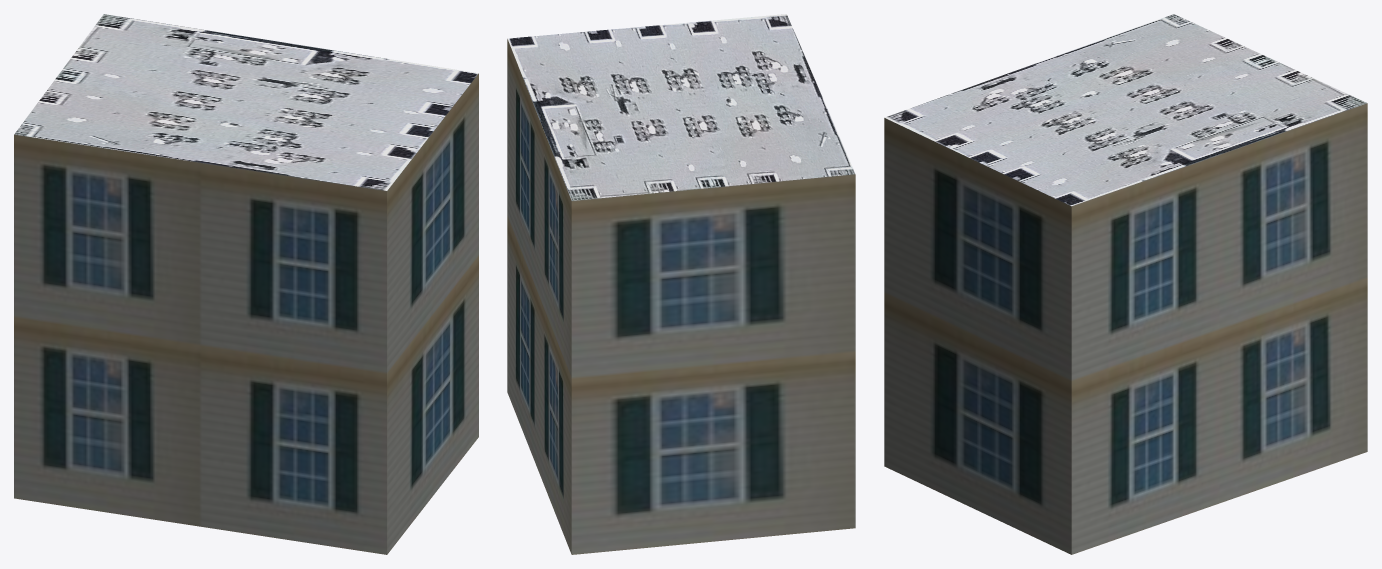
The model's file is ResTex__5142.fbx.
3 renders of one model, left to right at view 1: azimuth 30°, elevation 25°; view 2: azimuth 150°, elevation 25°; view 3: azimuth 270°, elevation 25°, orthographic. The views are drawn at different scales.
Visible parts, largest first — view 1: CityEngineMaterial_7_m, CityEngineMaterial_4_m; view 2: CityEngineMaterial_7_m, CityEngineMaterial_4_m; view 3: CityEngineMaterial_7_m, CityEngineMaterial_4_m.
Boxes of the visible parts, x1,y1,x2,y2 form: CityEngineMaterial_7_m: (14, 73, 478, 554); CityEngineMaterial_4_m: (14, 14, 478, 190); CityEngineMaterial_7_m: (507, 39, 855, 554); CityEngineMaterial_4_m: (507, 14, 855, 200); CityEngineMaterial_7_m: (884, 103, 1367, 554); CityEngineMaterial_4_m: (885, 14, 1367, 206).
Bounding box in the file's own units: 7.1 × 6 × 7.54.
Materials: 2 (2 with a texture image).
